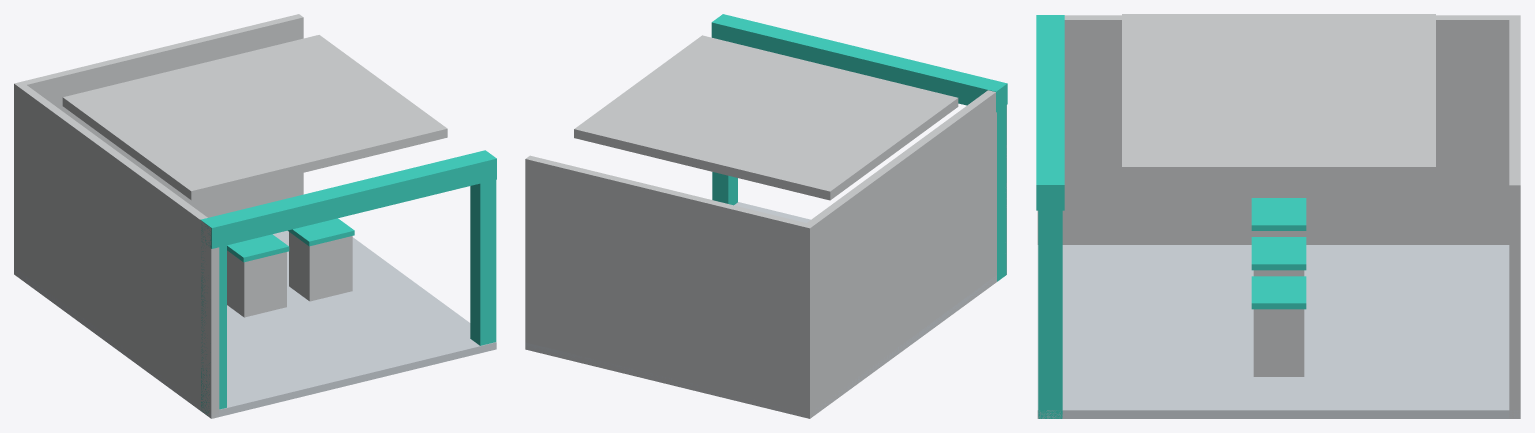
3 views of the same model, side by side, from view 1: azimuth 30°, elevation 25°; view 2: azimuth 150°, elevation 25°; view 3: azimuth 270°, elevation 25° (orthographic). The views are drawn at different scales.
Parts seen in each view (by area): view 1: Exhibition Booth Concept; view 2: Exhibition Booth Concept; view 3: Exhibition Booth Concept.
Boxes of the visible parts, x1,y1,x2,y2 form: Exhibition Booth Concept: (14,14,496,418); Exhibition Booth Concept: (525,14,1007,418); Exhibition Booth Concept: (1036,14,1520,418).
Bounding box in the file's own units: 5 × 3.34 × 6.02.
